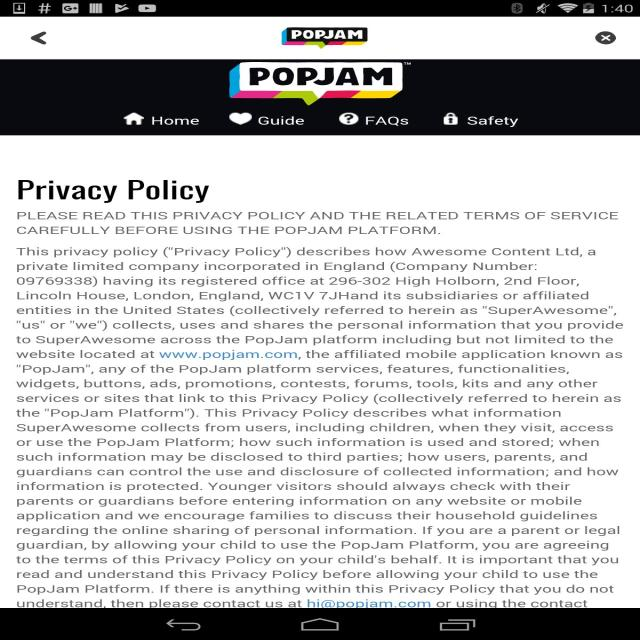button: (436, 106, 529, 136), (220, 107, 316, 135), (328, 108, 418, 136), (117, 108, 210, 134), (595, 27, 621, 49), (28, 27, 51, 50)
heading: (12, 208, 629, 609), (14, 178, 214, 205), (249, 66, 393, 88)
image: (224, 63, 417, 104), (277, 25, 372, 50)
link: (156, 348, 302, 362), (307, 597, 431, 609)
